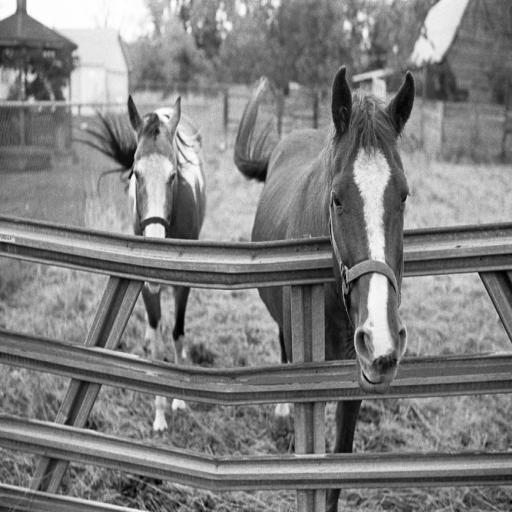Horse: (232, 74, 417, 512), (75, 94, 206, 441)
